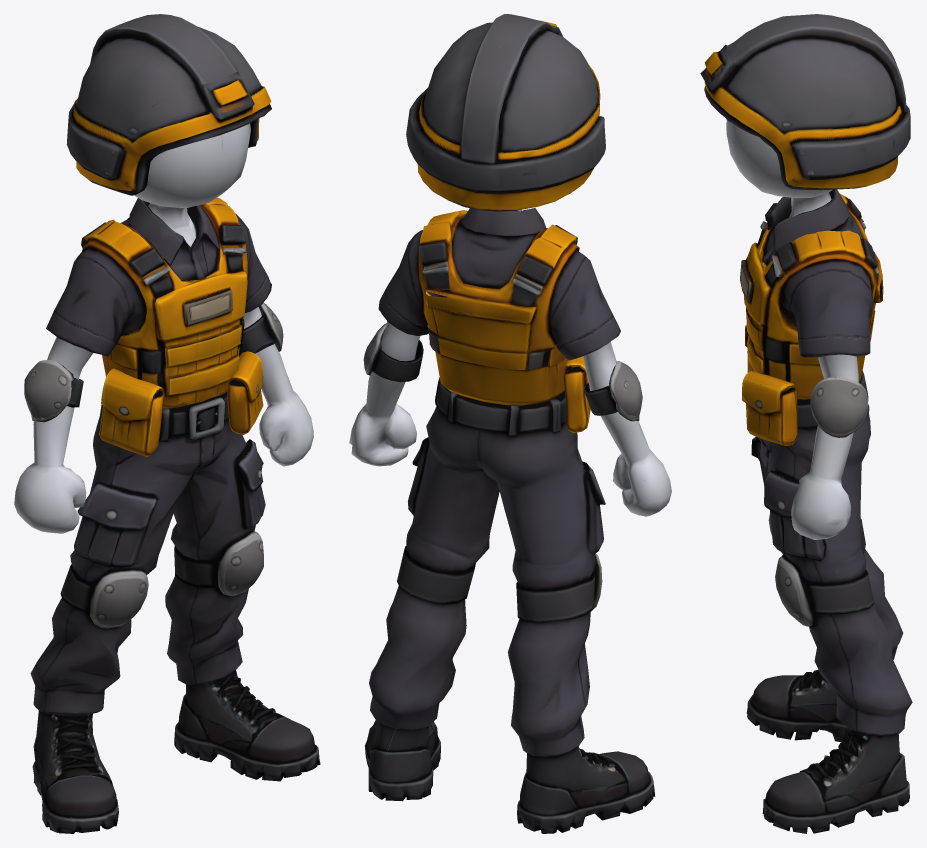
Rendered from medium-security.glb.
3 views of the same model, side by side, from view 1: azimuth 30°, elevation 25°; view 2: azimuth 150°, elevation 25°; view 3: azimuth 270°, elevation 25° (orthographic). The views are drawn at different scales.
Parts seen in each view (by area): view 1: geometry_0; view 2: geometry_0; view 3: geometry_0.
Part boxes in pixels (<box>): geometry_0: <box>14,14,320,833</box>; geometry_0: <box>349,14,671,833</box>; geometry_0: <box>700,14,912,833</box>.
Bounding box in the file's own units: 0.3931 × 0.9517 × 0.2441.
1 material, 1 textured.
